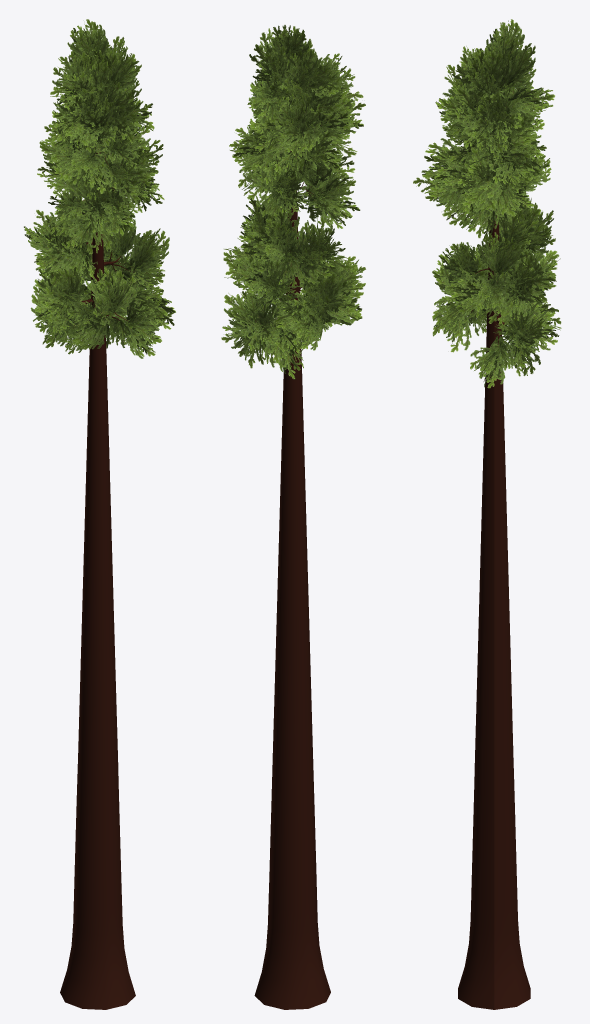
The model's file is Redwood_2.obj.
3 views of the same model, side by side, from view 1: azimuth 30°, elevation 25°; view 2: azimuth 150°, elevation 25°; view 3: azimuth 270°, elevation 25° (orthographic).
Visible parts, largest first — view 1: Redwood_2; view 2: Redwood_2; view 3: Redwood_2.
Boxes of the visible parts, x1,y1,x2,y2 form: Redwood_2: (24,19,175,1009); Redwood_2: (221,25,365,1009); Redwood_2: (413,19,561,1009).
Bounding box in the file's own units: 15.84 × 104 × 16.62.
Materials: 2 (1 with a texture image).
